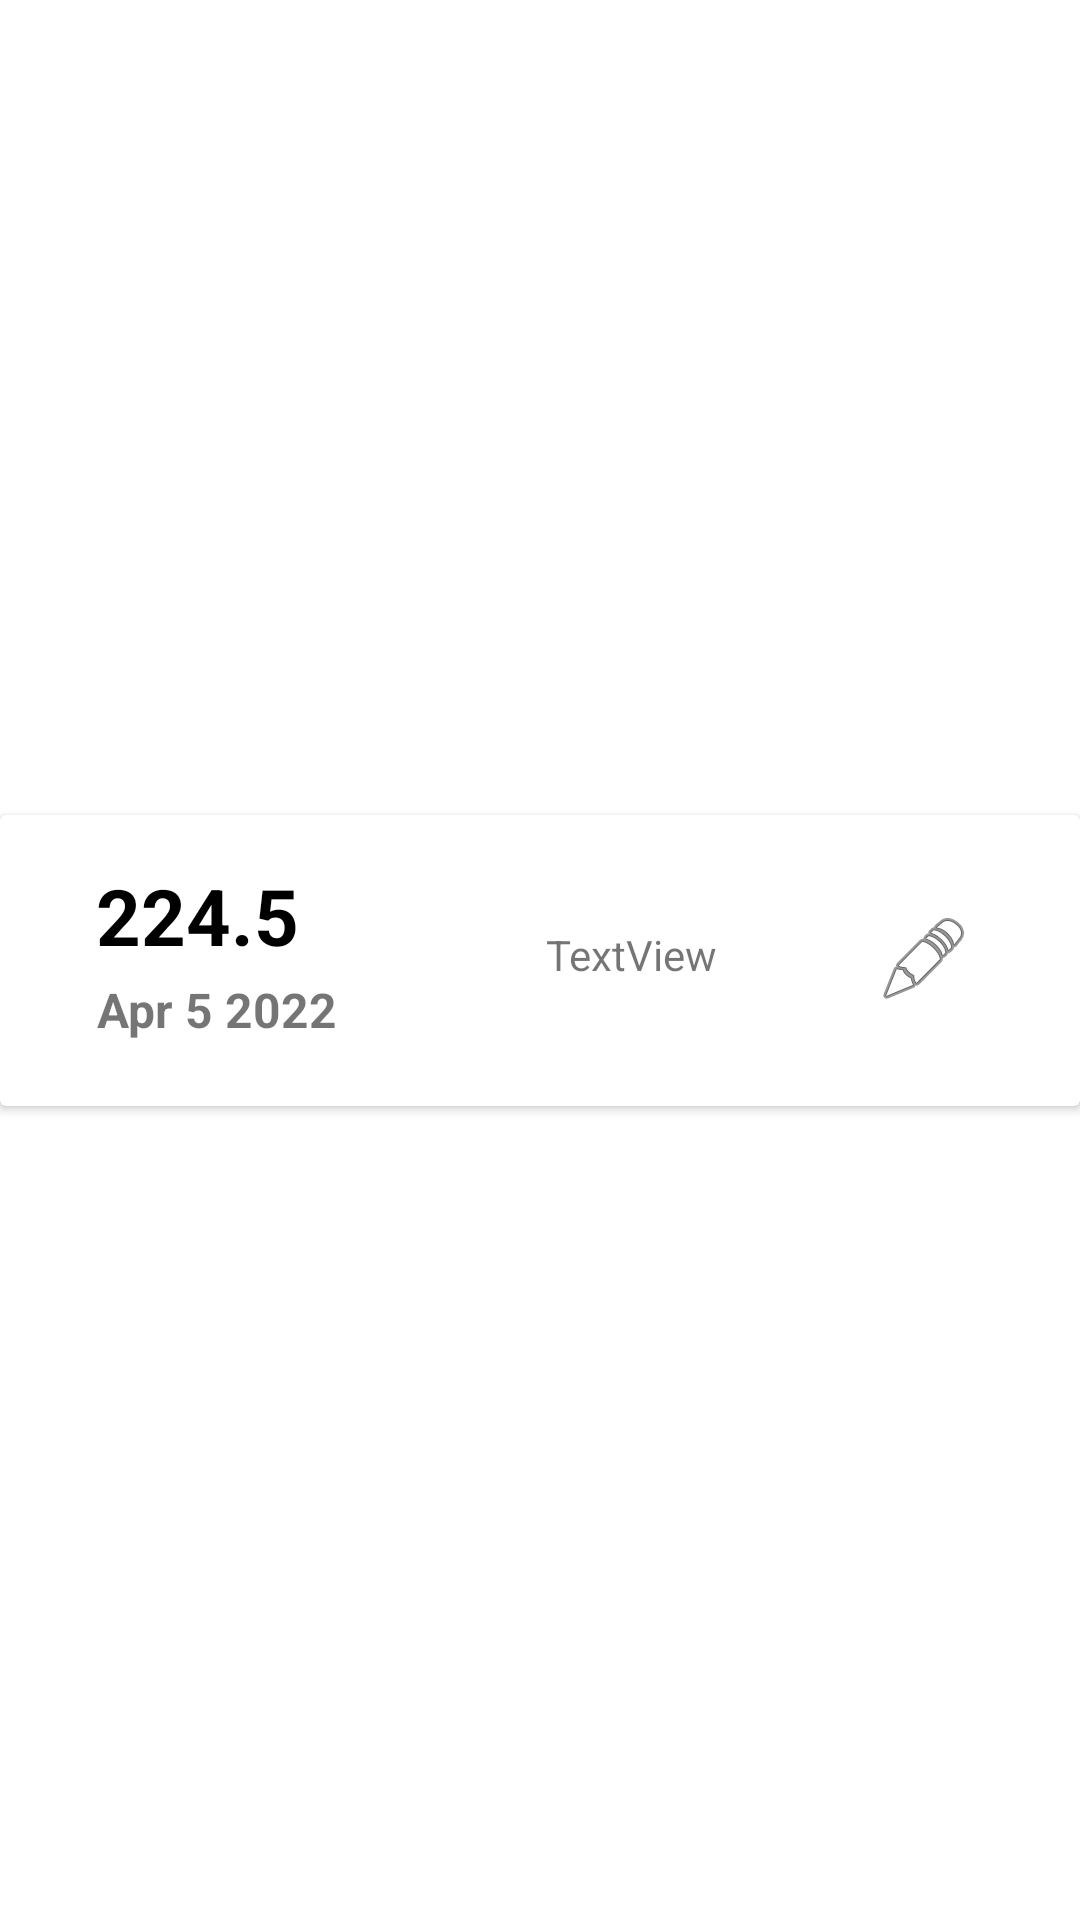

Screen size 1080*1920. Icon name, then its box in pixels as (x1, y1, x2, y2):
edit: (883, 918, 964, 999)
